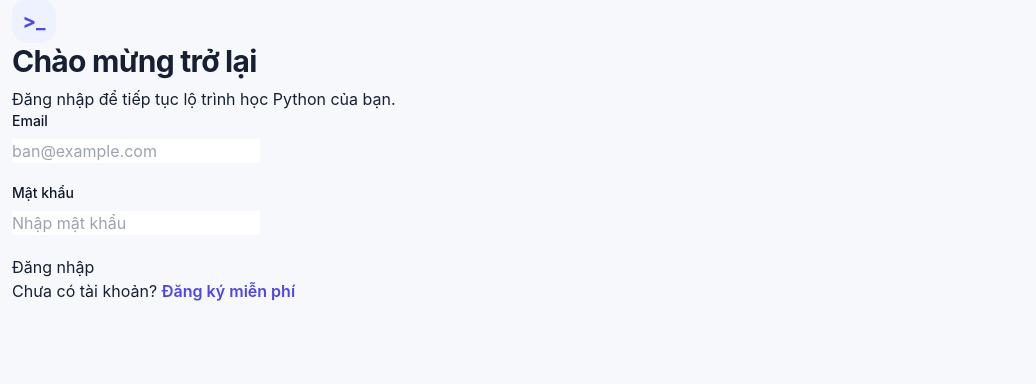
Test case: LoginForm › shows the safe API error without navigating
Type "learner@example.com" into the field labelled "Email".
click(136, 151); type("learner@example.com")  # box [12, 139, 260, 163]
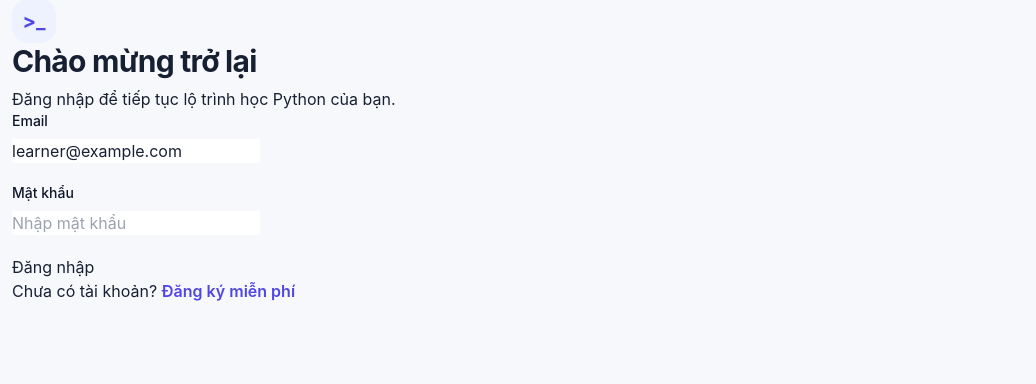
Type "WrongPassword" into the password field labelled "Mật khẩu".
click(136, 223); type("WrongPassword")  # box [12, 211, 260, 235]
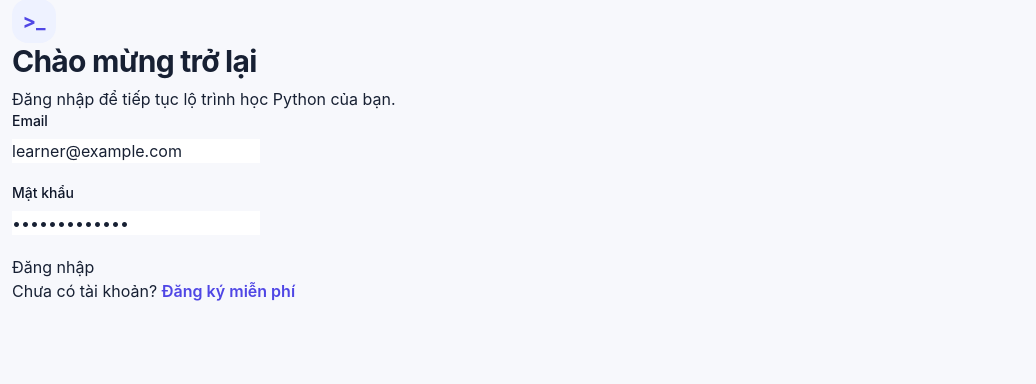
Click the button "Đăng nhập".
click(53, 267)  # box [12, 255, 94, 279]
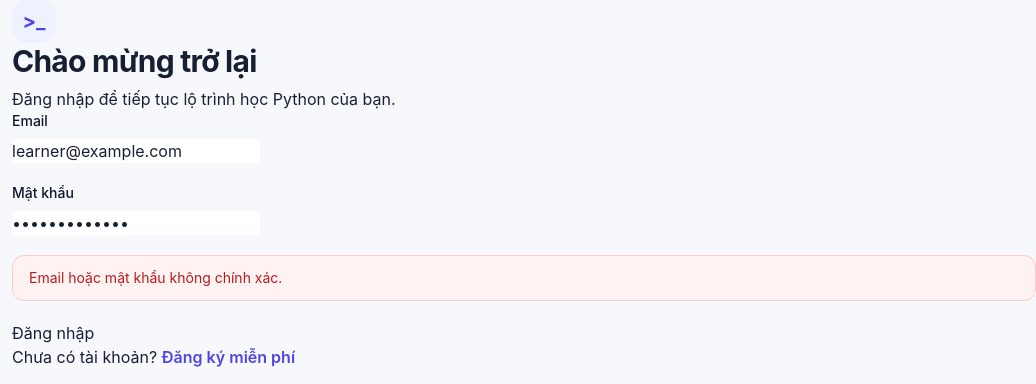
Expected: the message reads "Email hoặc mật khẩu không chính xác.", [29, 269, 282, 286]
